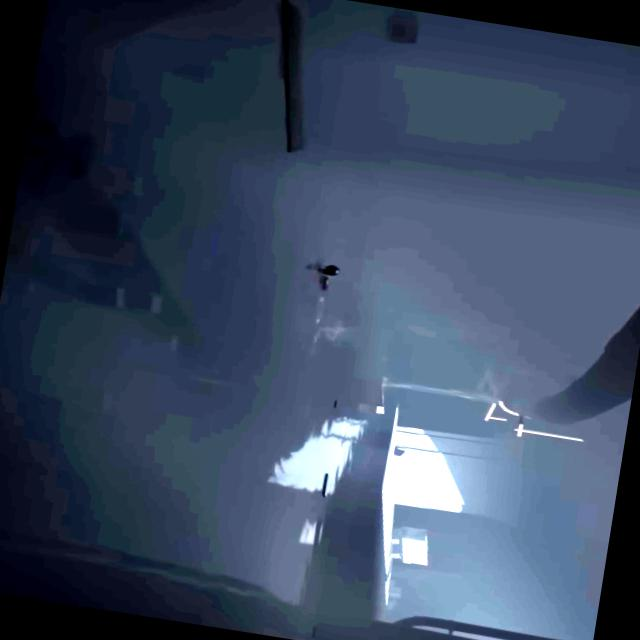boy: (316, 262, 341, 278)
